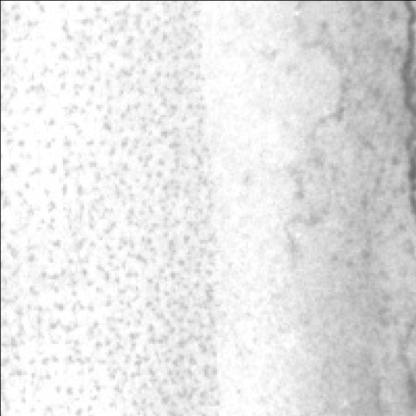pitted_surface: (4, 0, 218, 414), (279, 0, 416, 410)
